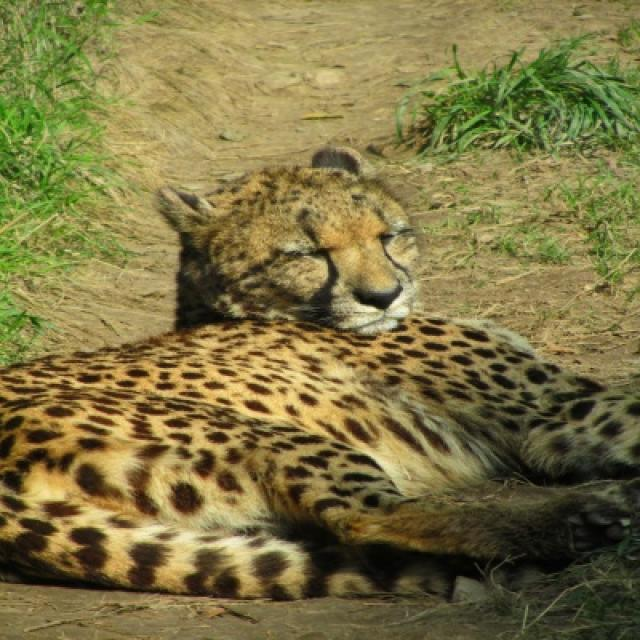Cheetah: (1, 150, 638, 592)
